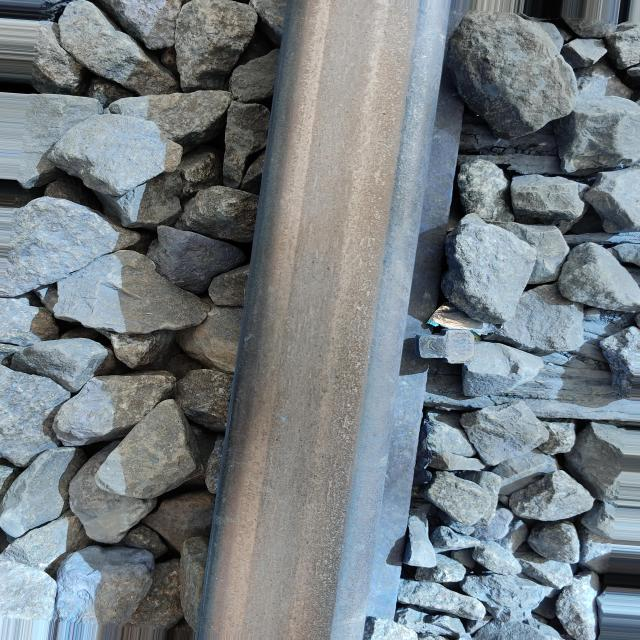non-defective: (193, 1, 463, 638)
